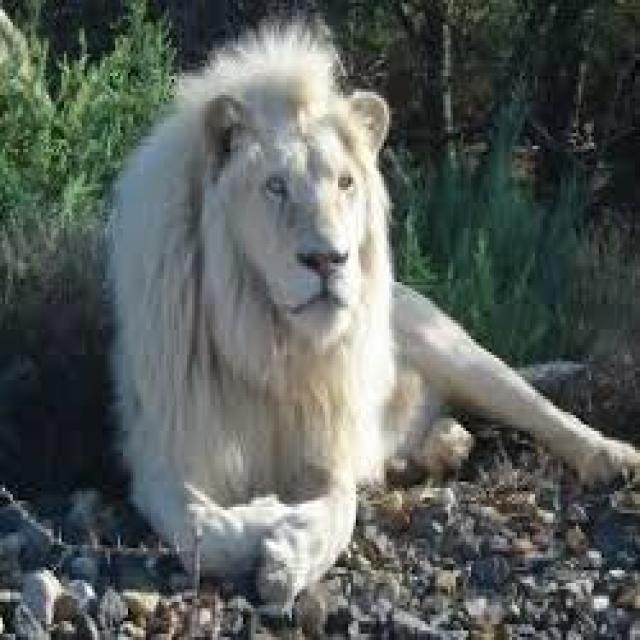Lion: (107, 47, 637, 617)
